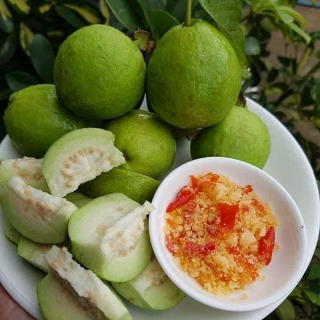oi: (146, 19, 240, 127), (56, 23, 144, 118)
